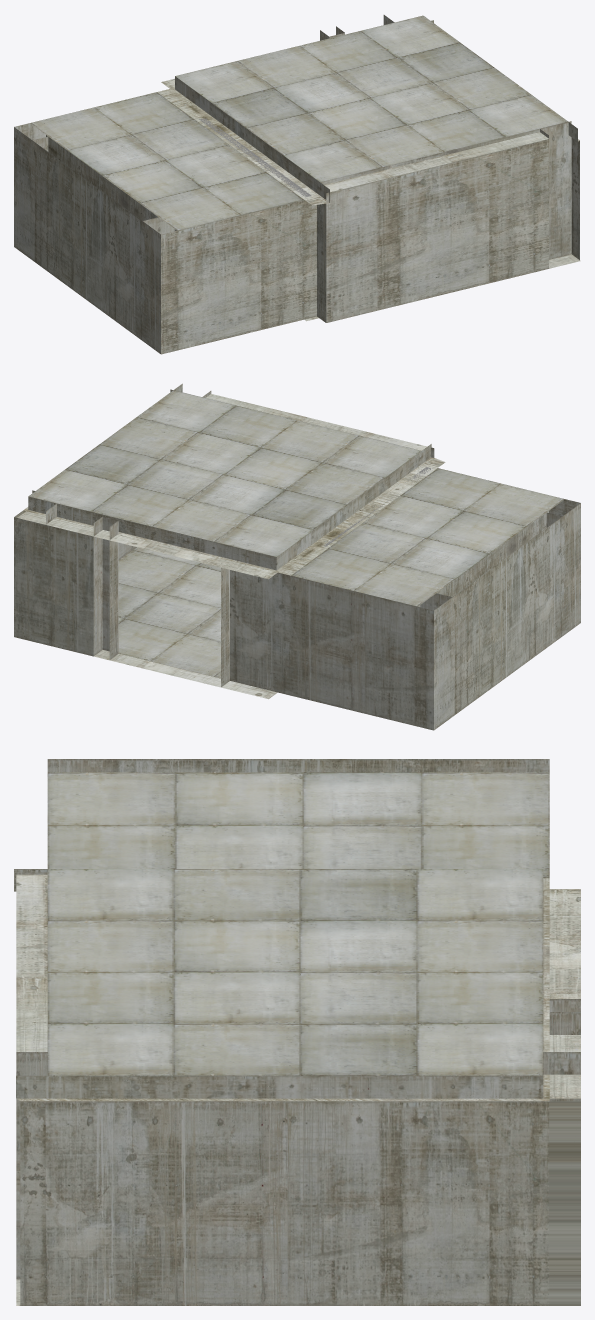
Rendered from Jails_Parts_Set_room.fbx.
The picture shows the model from 3 angles, top to bottom: view 1: azimuth 30°, elevation 25°; view 2: azimuth 150°, elevation 25°; view 3: azimuth 270°, elevation 25°; orthographic projection. The views are drawn at different scales.
Visible parts, largest first — view 1: wall01, floor01, fence01; view 2: wall01, floor01; view 3: floor01, wall01.
Part boxes in pixels (<box>): wall01: <box>14,15,580,354</box>; floor01: <box>30,15,568,230</box>; fence01: <box>199,118,311,197</box>; wall01: <box>14,383,580,730</box>; floor01: <box>28,390,564,678</box>; floor01: <box>47,772,549,1075</box>; wall01: <box>14,759,580,1305</box>.
Bounding box in the file's own units: 1290 × 400 × 904.
